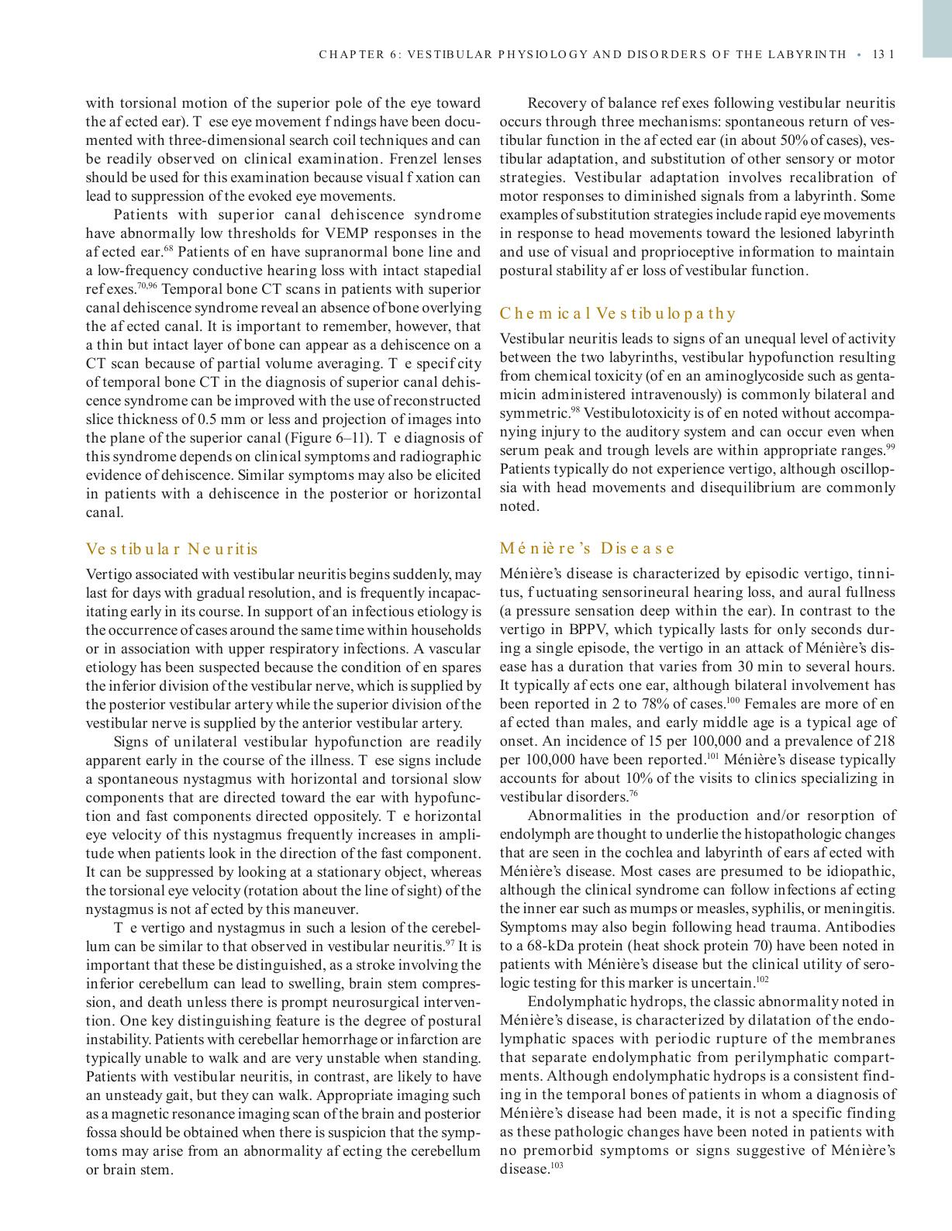header: (317, 46, 847, 62)
section-heading: (498, 304, 738, 324), (83, 538, 262, 557), (496, 538, 678, 556)
text: (497, 563, 899, 1178), (82, 566, 483, 1177), (83, 94, 484, 520), (497, 93, 899, 281), (498, 329, 898, 514)
